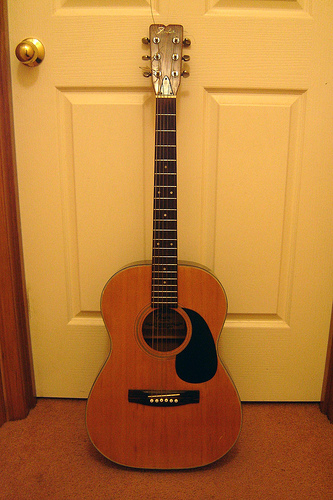guitar: (83, 21, 245, 475)
